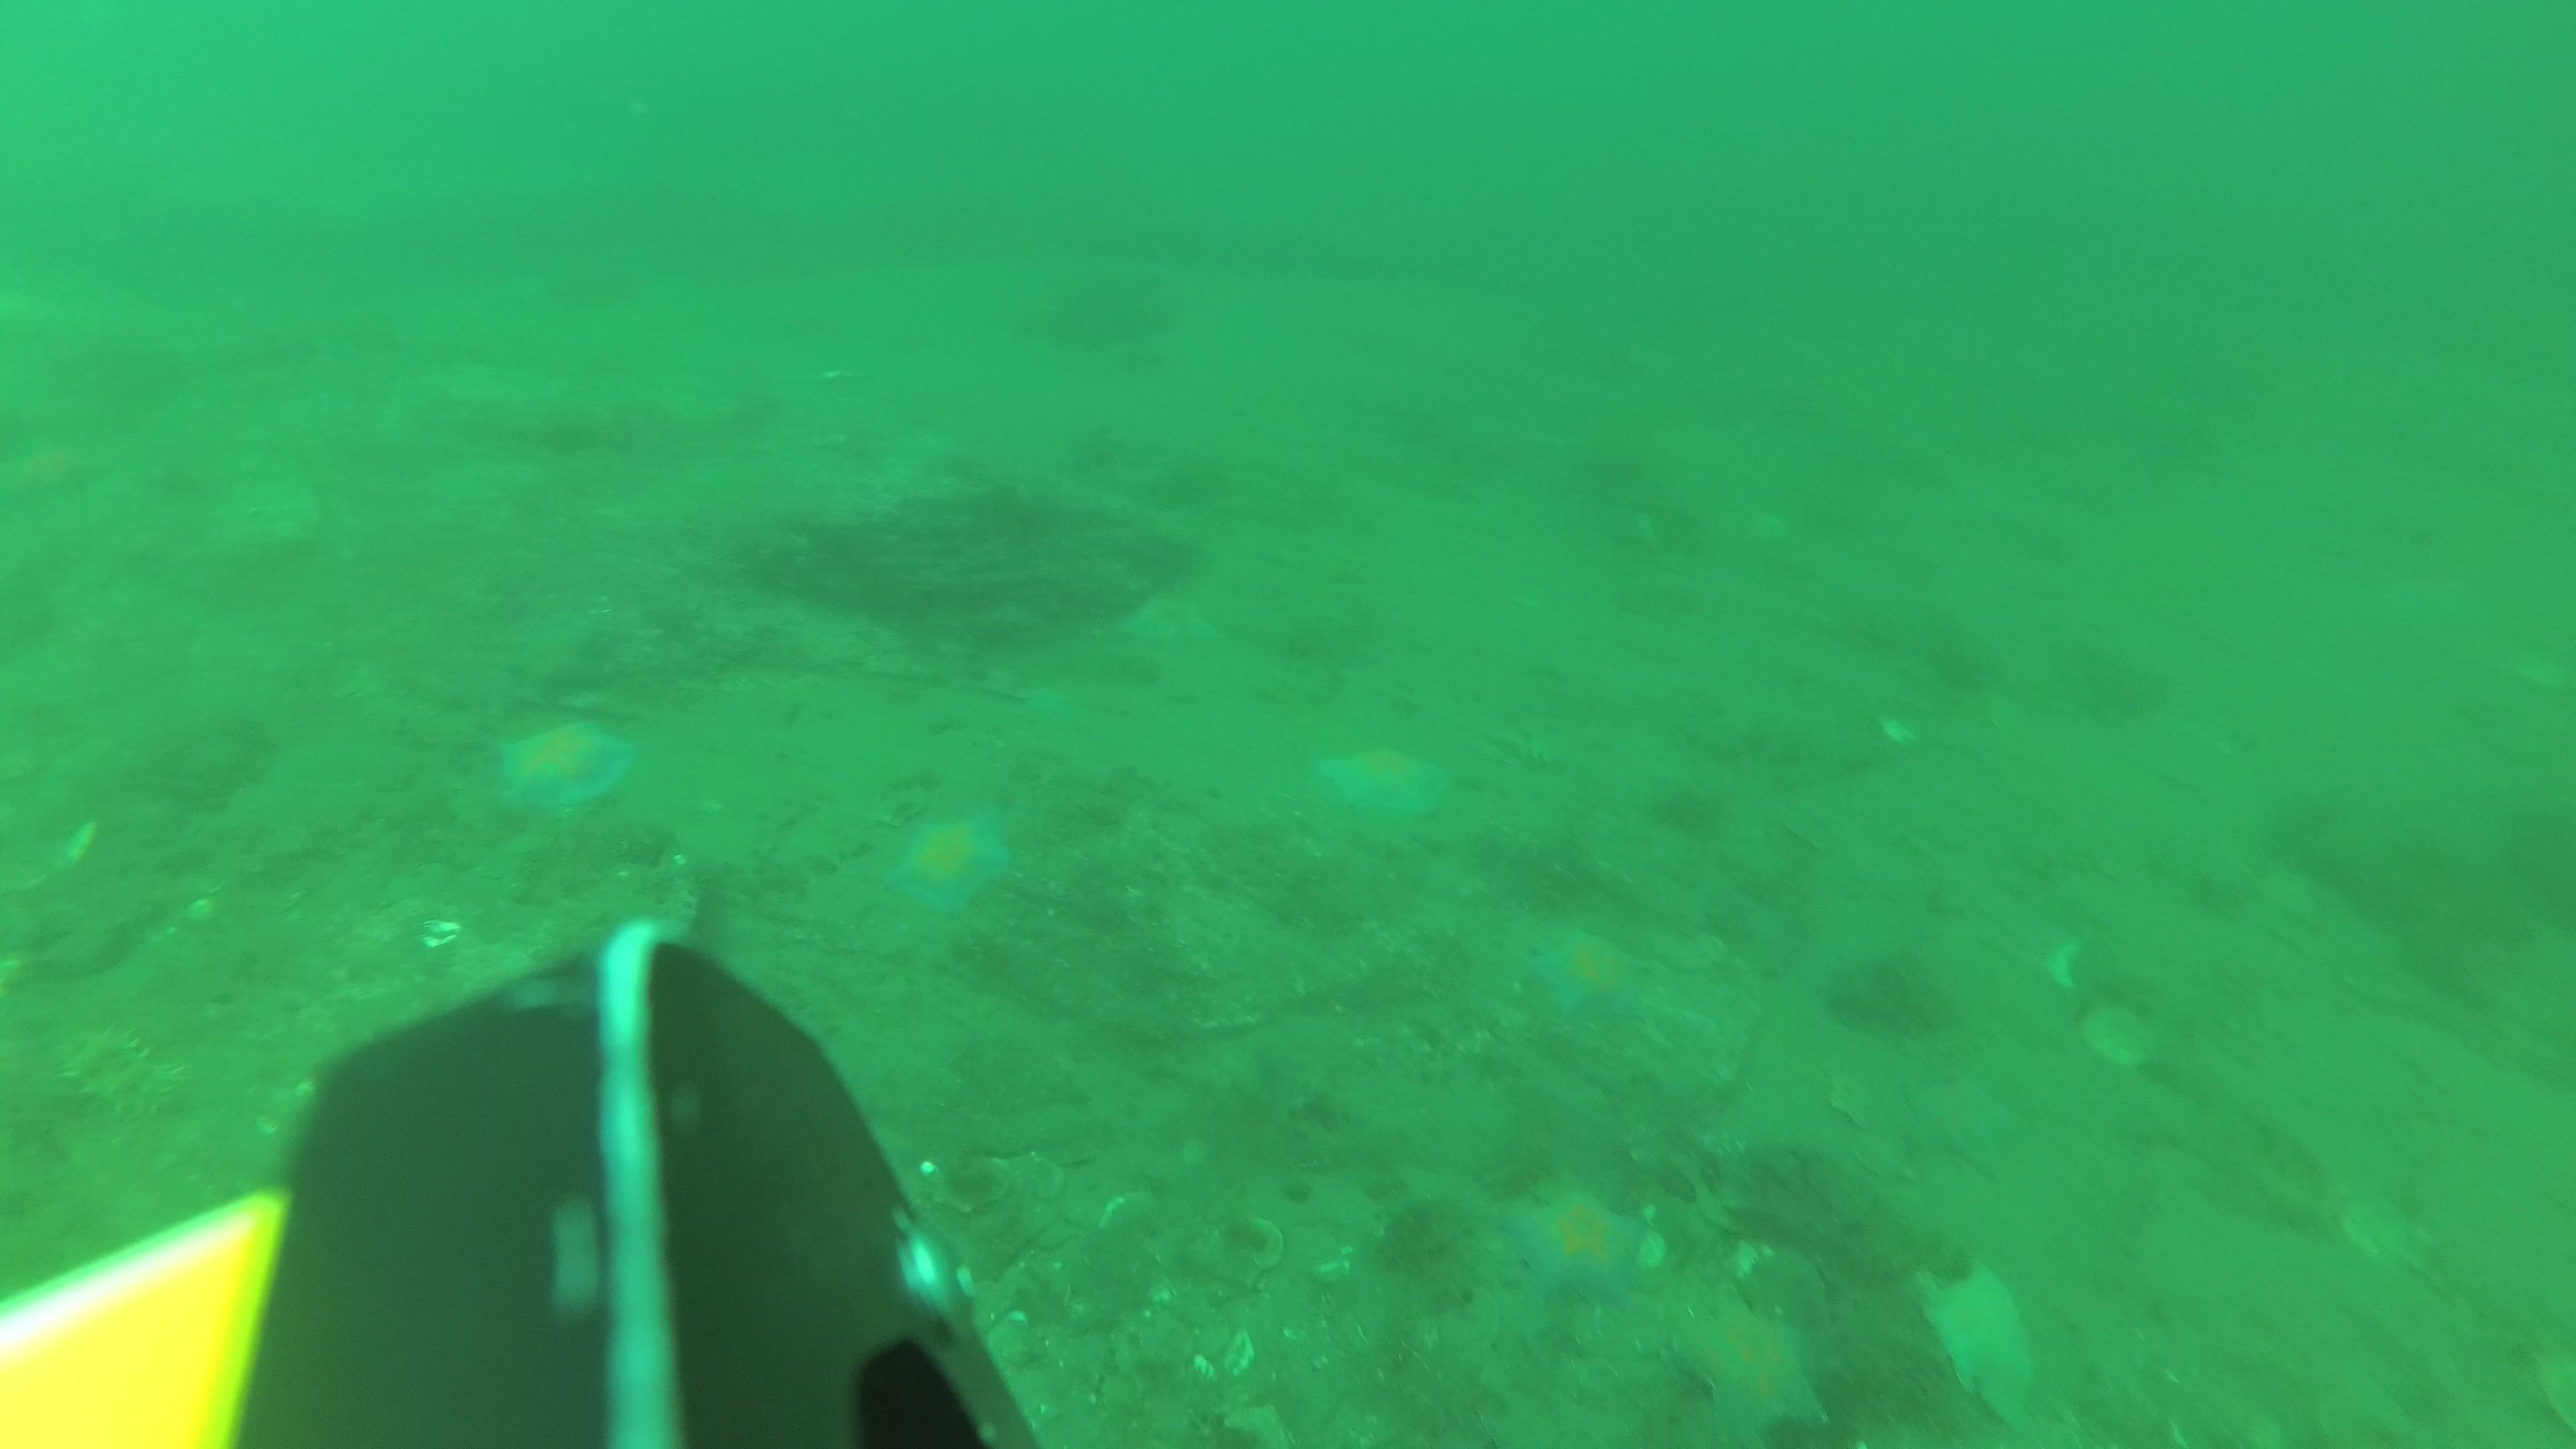holothurian: (60, 1024, 180, 1118)
scallop: (2346, 1191, 2440, 1272), (1208, 1214, 1288, 1286), (2088, 996, 2158, 1070)
starfish: (1675, 1293, 1828, 1442), (1518, 1184, 1644, 1306), (501, 722, 637, 821), (892, 812, 1016, 913), (1539, 927, 1649, 1019), (1322, 743, 1449, 816)
